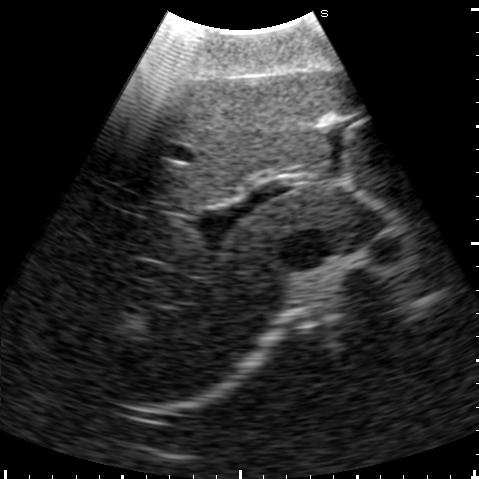IVC: (280, 229, 333, 269)
S1: (255, 185, 388, 249)
S2: (350, 171, 418, 215)
S3: (331, 71, 394, 173)
S4: (129, 71, 337, 204)
Tumor: (314, 112, 339, 129)
